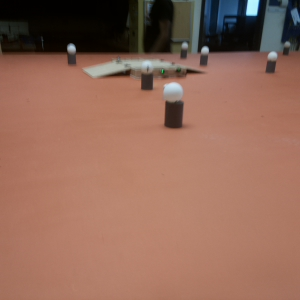obstacle: (162, 82, 184, 132), (140, 61, 154, 91), (264, 51, 278, 73), (66, 44, 78, 65), (199, 45, 210, 66), (179, 42, 189, 59), (281, 41, 292, 56)
side: (155, 65, 186, 79)
slope: (87, 57, 131, 79)
